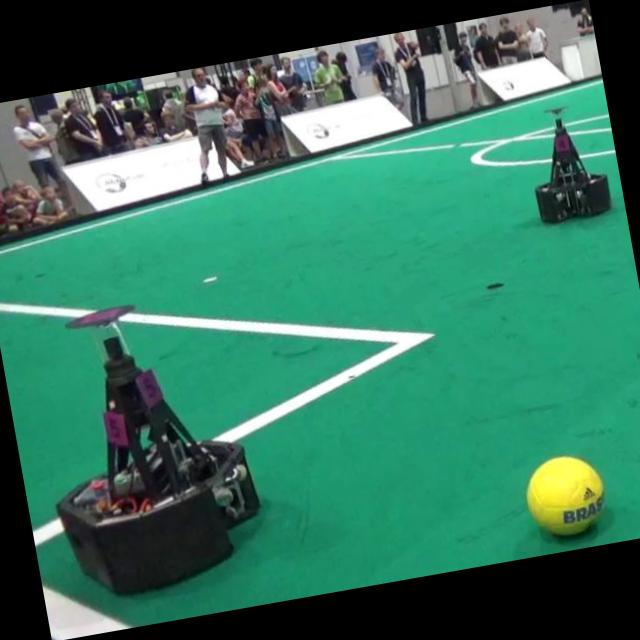ball: (526, 455, 603, 534)
robot: (56, 335, 260, 593), (534, 117, 610, 221)
